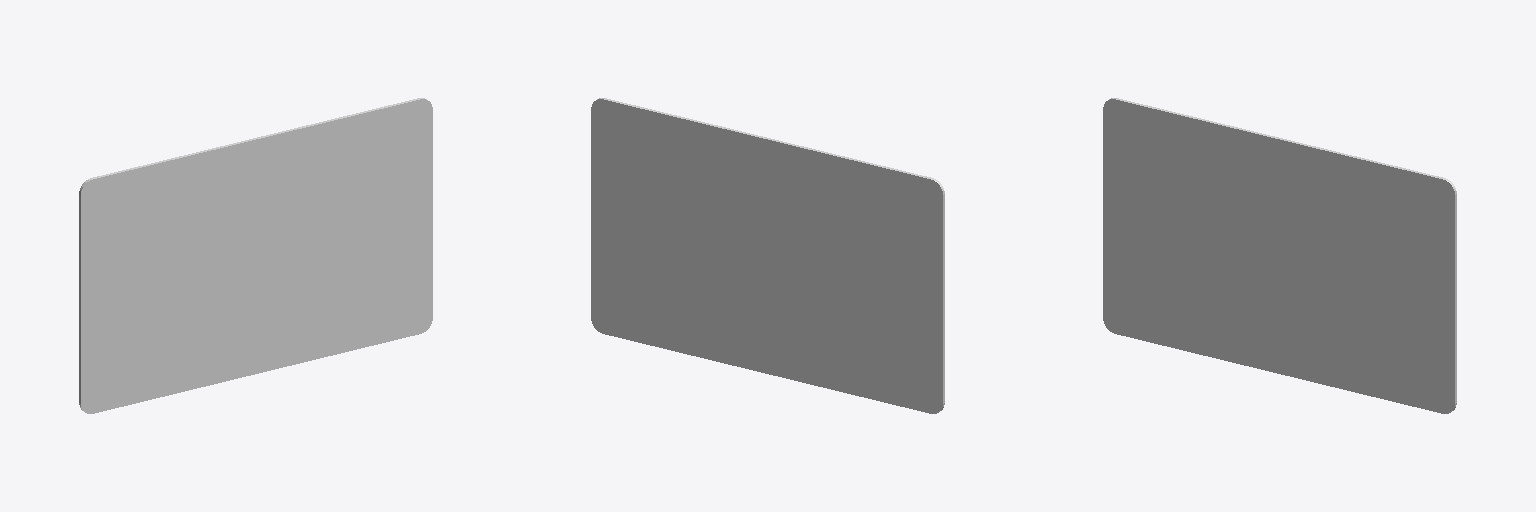
Rendered from render_card.obj.
The picture shows the model from 3 angles: view 1: azimuth 30°, elevation 25°; view 2: azimuth 150°, elevation 25°; view 3: azimuth 330°, elevation 25°; orthographic projection.
Visible parts, largest first — view 1: CardShape; view 2: CardShape; view 3: CardShape.
Boxes of the visible parts, x1=… form: CardShape: x1=79, y1=98, x2=432, y2=413; CardShape: x1=591, y1=98, x2=944, y2=413; CardShape: x1=1103, y1=98, x2=1456, y2=413.
Bounding box in the file's own units: 7.51 × 4.78 × 0.068.